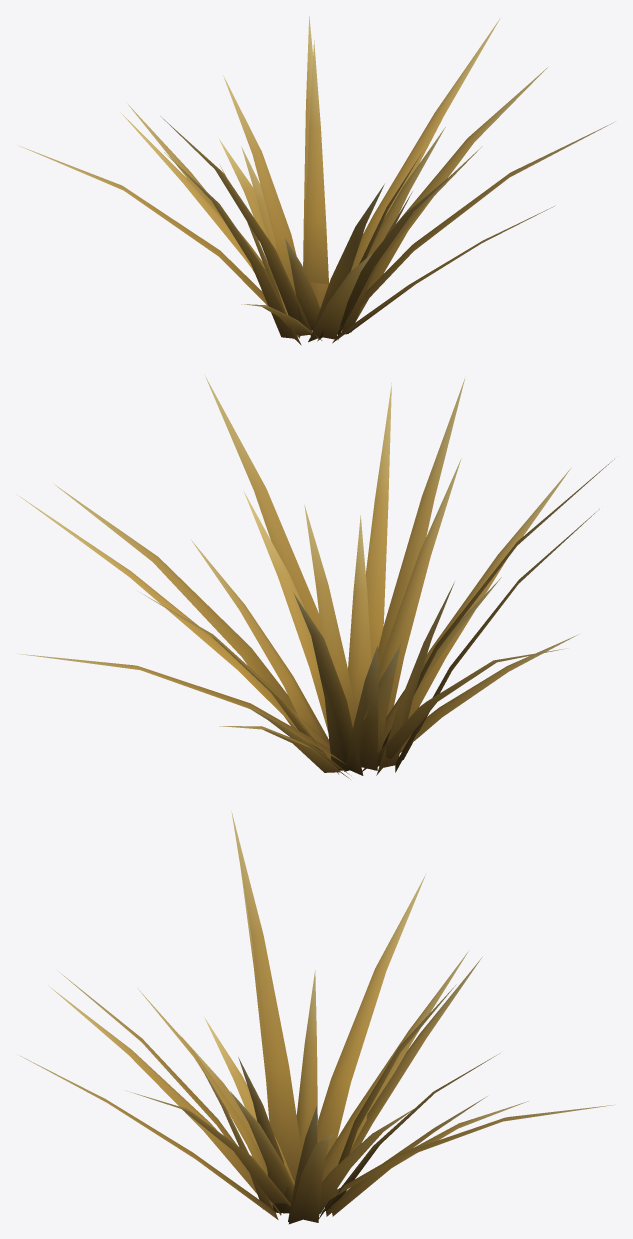
File: desert_grass.glb
3 renders of one model, top to bottom at view 1: azimuth 30°, elevation 25°; view 2: azimuth 150°, elevation 25°; view 3: azimuth 270°, elevation 25°, orthographic. The views are drawn at different scales.
Visible parts, largest first — view 1: desert_grass; view 2: desert_grass; view 3: desert_grass.
Boxes of the visible parts, <box> form: desert_grass: <box>18,16,615,345</box>; desert_grass: <box>16,376,614,779</box>; desert_grass: <box>20,812,615,1224</box>.
Size of the model in its own units: 0.7098 by 0.3985 by 0.7224.
